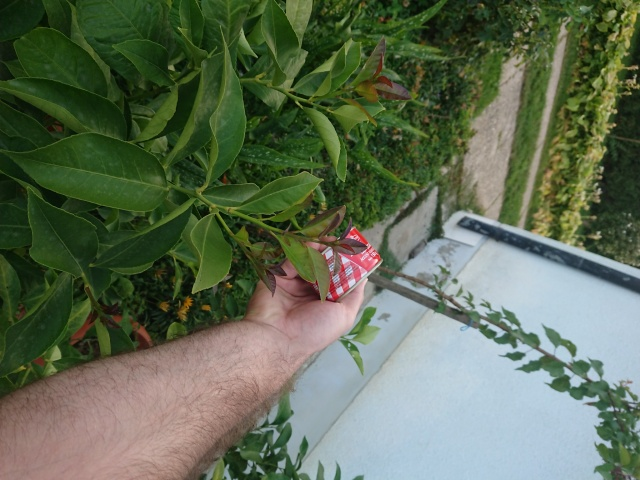Podravka Luncheon Meat 150g: (304, 225, 385, 307)
